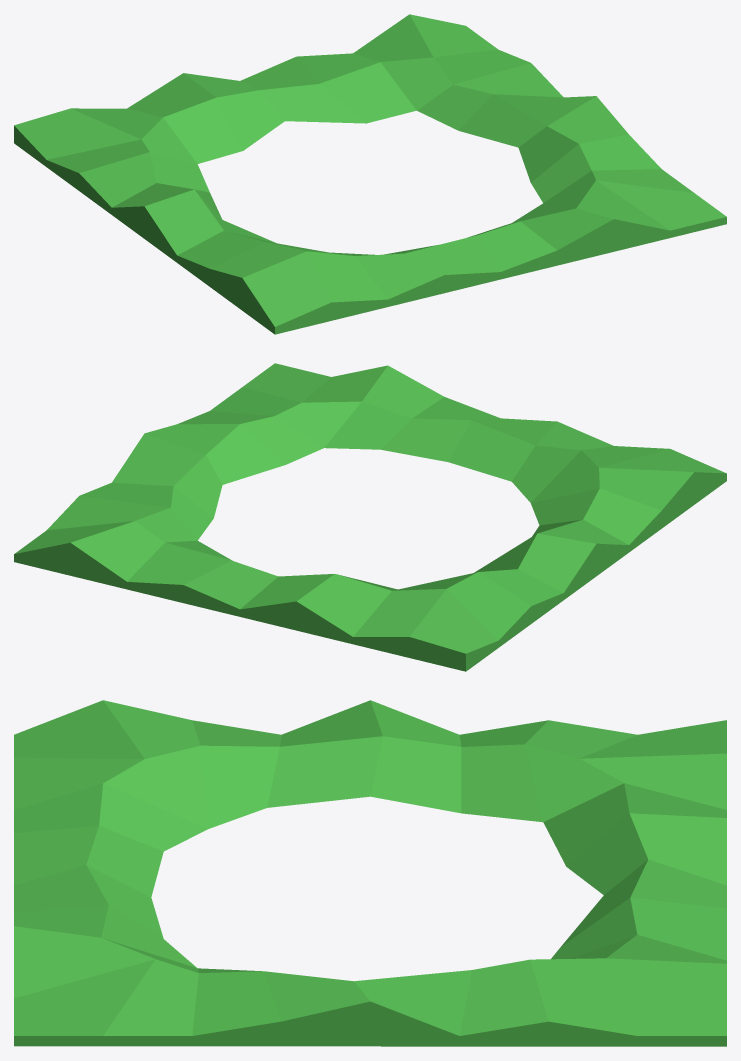
File: Pond.fbx
3 renders of one model, top to bottom at view 1: azimuth 30°, elevation 25°; view 2: azimuth 150°, elevation 25°; view 3: azimuth 270°, elevation 25°, orthographic. The views are drawn at different scales.
Parts seen in each view (by area): view 1: Pond; view 2: Pond; view 3: Pond.
Boxes of the visible parts, x1,y1,x2,y2 form: Pond: [14, 14, 726, 334]; Pond: [14, 363, 726, 671]; Pond: [14, 700, 726, 1046].
Bounding box in the file's own units: 1000 × 83.14 × 1000.
